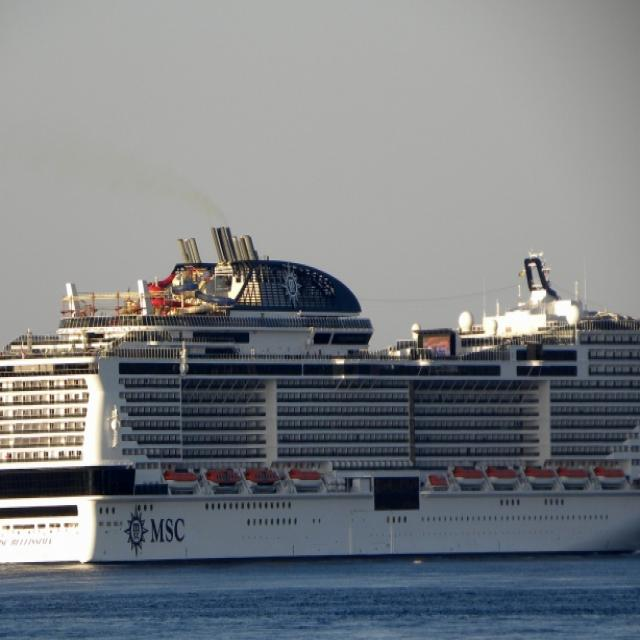cruises: (1, 222, 640, 583)
